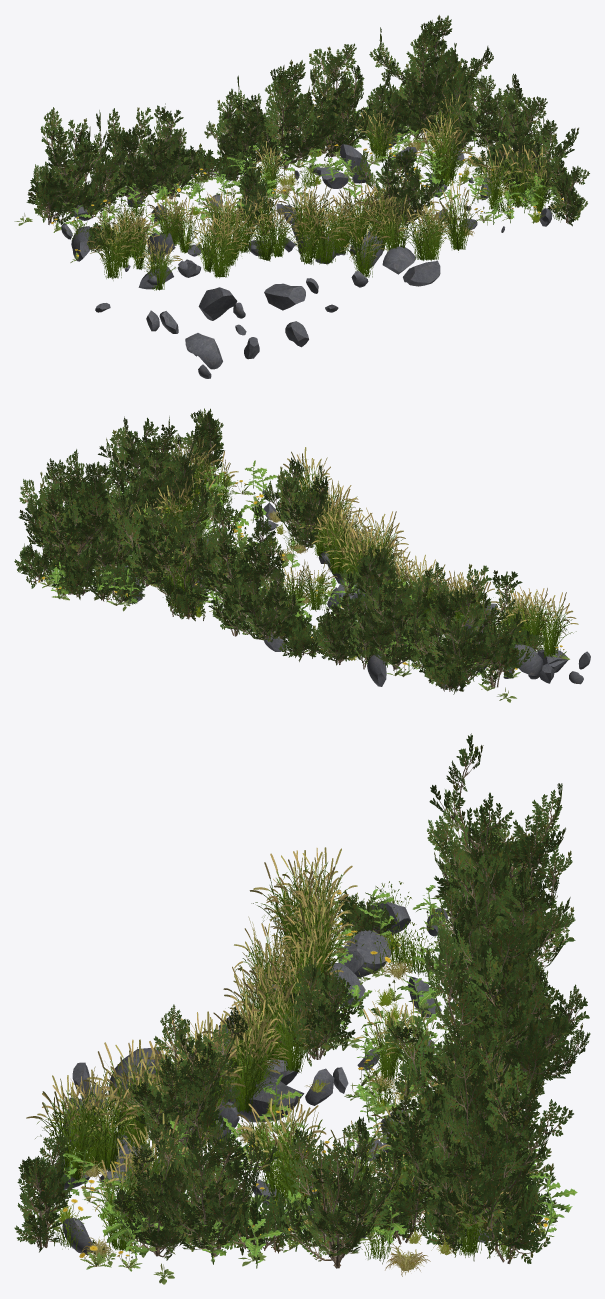
Rendered from pond.glb.
The picture shows the model from 3 angles, top to bottom: view 1: azimuth 30°, elevation 25°; view 2: azimuth 150°, elevation 25°; view 3: azimuth 270°, elevation 25°; orthographic projection. The views are drawn at different scales.
Visible parts, largest first — view 1: Bush_big_002_LOD001_Brunch_material_0, Bush_big_005_LOD001_Brunch_material_0, Bush_big_001_LOD002_Brunch_material_0, Bush_big_005_LOD002_Brunch_material_0, Bush_big_002_LOD002_Brunch_material_0, Bush_big_005_LOD003_Brunch_material_0, Bush_big_003_LOD001_Brunch_material_0, Bush_big_001_LOD001_Brunch_material_0, Bush_big_004_LOD003_Brunch_material_0, Bush_big_004_LOD004_Brunch_material_0, Bush_big_004_LOD002_Brunch_material_0, Bush_big_004_LOD001_Brunch_material_0 (+58 smaller); view 2: Bush_big_002_LOD001_Brunch_material_0, Bush_big_001_LOD002_Brunch_material_0, Bush_big_005_LOD002_Brunch_material_0, Bush_big_005_LOD001_Brunch_material_0, Bush_big_002_LOD002_Brunch_material_0, Bush_big_001_LOD001_Brunch_material_0, Bush_big_004_LOD003_Brunch_material_0, Bush_big_005_LOD003_Brunch_material_0, Bush_big_004_LOD002_Brunch_material_0, Bush_big_004_LOD004_Brunch_material_0, Bush_big_003_LOD001_Brunch_material_0, Bush_medium_004_LOD003_Brunch_material_0 (+38 smaller); view 3: Bush_big_005_LOD002_Brunch_material_0, Bush_big_003_LOD001_Brunch_material_0, Bush_big_002_LOD001_Brunch_material_0, Bush_big_001_LOD002_Brunch_material_0, Bush_big_001_LOD001_Brunch_material_0, Bush_big_005_LOD003_Brunch_material_0, Bush_big_005_LOD001_Brunch_material_0, Bush_big_002_LOD002_Brunch_material_0, Bush_big_004_LOD001_Brunch_material_0, Bush_big_004_LOD004_Brunch_material_0, Bush_medium_005_LOD004_Brunch_material_0, Bush_big_004_LOD002_Brunch_material_0 (+49 smaller).
Boxes of the visible parts, x1,y1,x2,y2 form: Bush_big_002_LOD001_Brunch_material_0: (31,107,130,214); Bush_big_005_LOD001_Brunch_material_0: (229,59,346,165); Bush_big_001_LOD002_Brunch_material_0: (305,43,391,158); Bush_big_005_LOD002_Brunch_material_0: (369,15,493,120); Bush_big_002_LOD002_Brunch_material_0: (93,107,183,202); Bush_big_005_LOD003_Brunch_material_0: (354,147,443,225); Bush_big_003_LOD001_Brunch_material_0: (452,73,537,149); Bush_big_001_LOD001_Brunch_material_0: (489,96,578,190); Bush_big_004_LOD003_Brunch_material_0: (204,88,268,165); Bush_big_004_LOD004_Brunch_material_0: (123,103,198,197); Bush_big_004_LOD002_Brunch_material_0: (389,59,458,139); Bush_big_004_LOD001_Brunch_material_0: (487,119,564,202); Bush_big_002_LOD001_Brunch_material_0: (405,562,523,684); Bush_big_001_LOD002_Brunch_material_0: (114,482,226,604); Bush_big_005_LOD002_Brunch_material_0: (18,458,109,575); Bush_big_005_LOD001_Brunch_material_0: (187,503,284,607); Bush_big_002_LOD002_Brunch_material_0: (349,547,438,668); Bush_big_001_LOD001_Brunch_material_0: (98,416,202,518); Bush_big_004_LOD003_Brunch_material_0: (208,540,298,642); Bush_big_005_LOD003_Brunch_material_0: (264,457,331,547); Bush_big_004_LOD002_Brunch_material_0: (49,468,140,572); Bush_big_004_LOD004_Brunch_material_0: (331,570,420,656); Bush_big_003_LOD001_Brunch_material_0: (49,449,150,527); Bush_medium_004_LOD003_Brunch_material_0: (476,622,529,684); Bush_big_005_LOD002_Brunch_material_0: (404,1036,573,1232); Bush_big_003_LOD001_Brunch_material_0: (276,1116,408,1261); Bush_big_002_LOD001_Brunch_material_0: (427,733,572,929); Bush_big_001_LOD002_Brunch_material_0: (383,962,569,1139); Bush_big_001_LOD001_Brunch_material_0: (145,1083,278,1254); Bush_big_005_LOD003_Brunch_material_0: (119,1004,248,1140); Bush_big_005_LOD001_Brunch_material_0: (397,921,560,1092); Bush_big_002_LOD002_Brunch_material_0: (431,838,575,979); Bush_big_004_LOD001_Brunch_material_0: (111,1129,233,1260); Bush_big_004_LOD004_Brunch_material_0: (422,882,540,1012); Bush_medium_005_LOD004_Brunch_material_0: (278,961,363,1066); Bush_big_004_LOD002_Brunch_material_0: (383,1066,512,1209).
Bounding box in the file's own units: 8.71 × 3.34 × 5.36.
8 materials, 8 textured.
